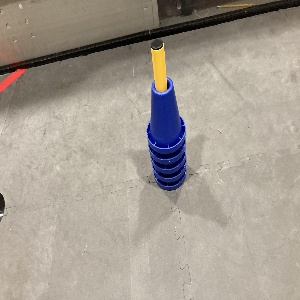Blue_5: (145, 75, 186, 191)
